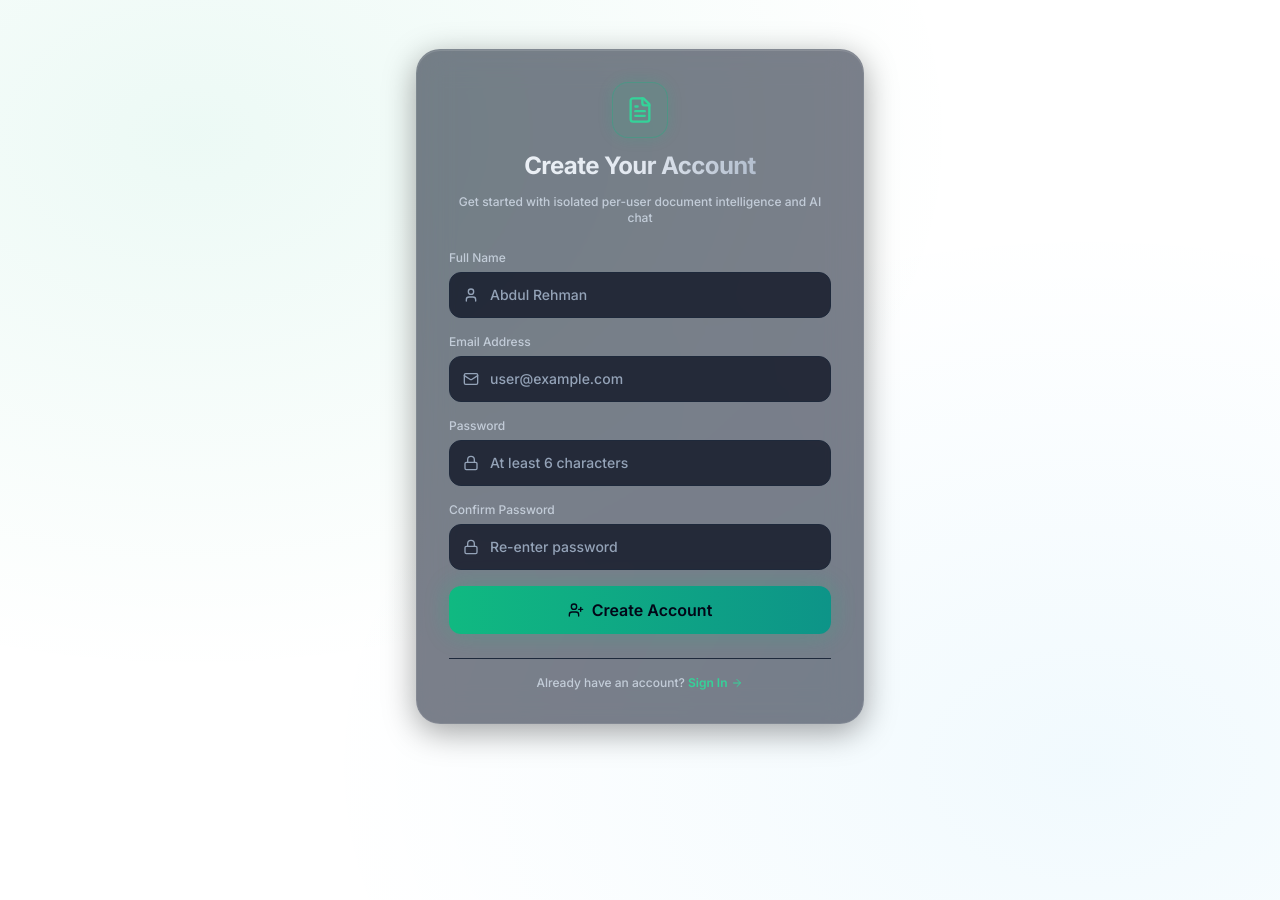
it: Authentication UI Components › renders RegisterPage form fields and validates password match
The width and height of the screenshot is (1280, 900).
Check: the heading "Create Your Account" is shown, box [449, 150, 831, 182]
# Fill in mismatching passwords
Type "Test User" into the field with placeholder "Abdul Rehman" at (640, 294), box [449, 272, 831, 318]
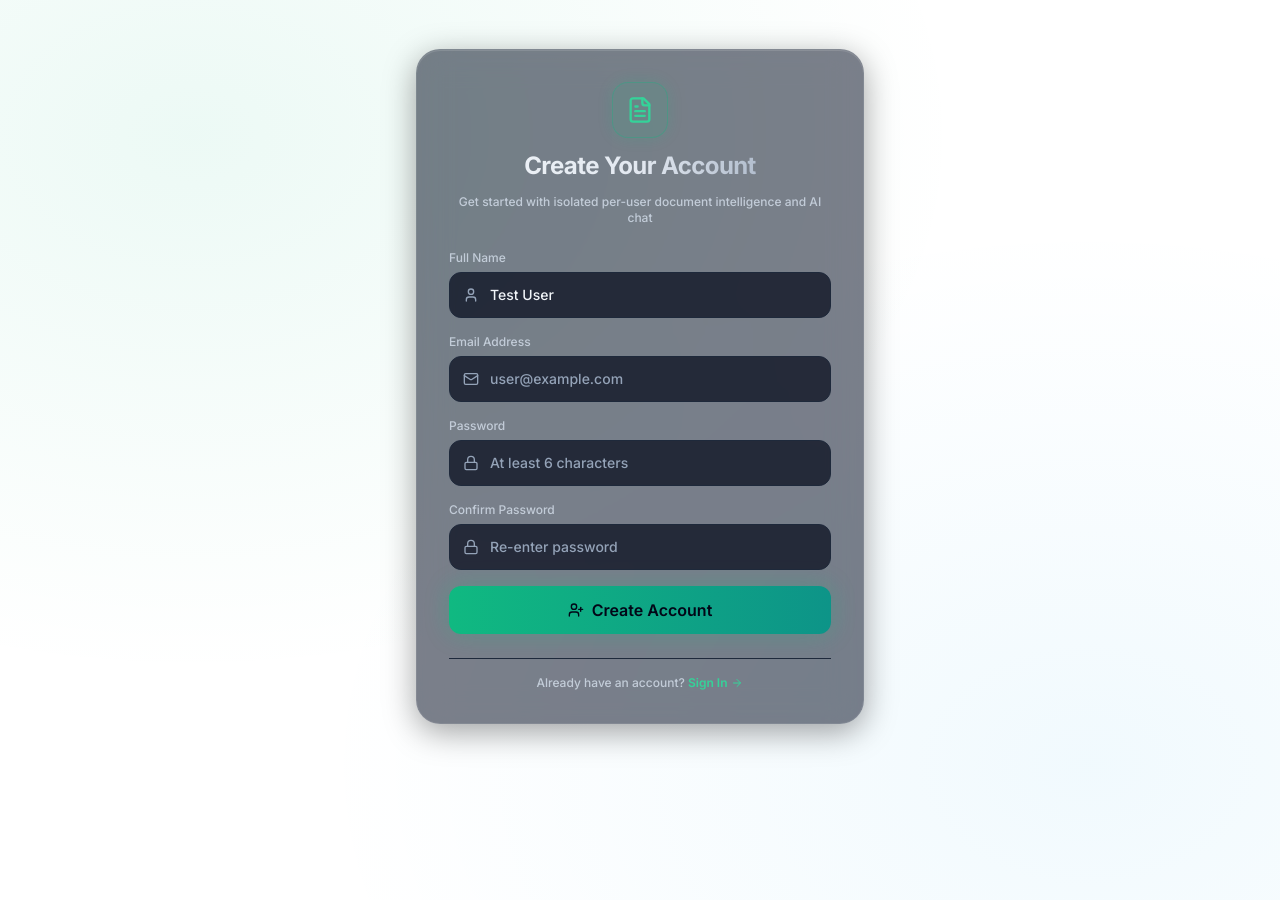
Type "test@example.com" into the field with placeholder "user@example.com" at (640, 378), box [449, 356, 831, 402]
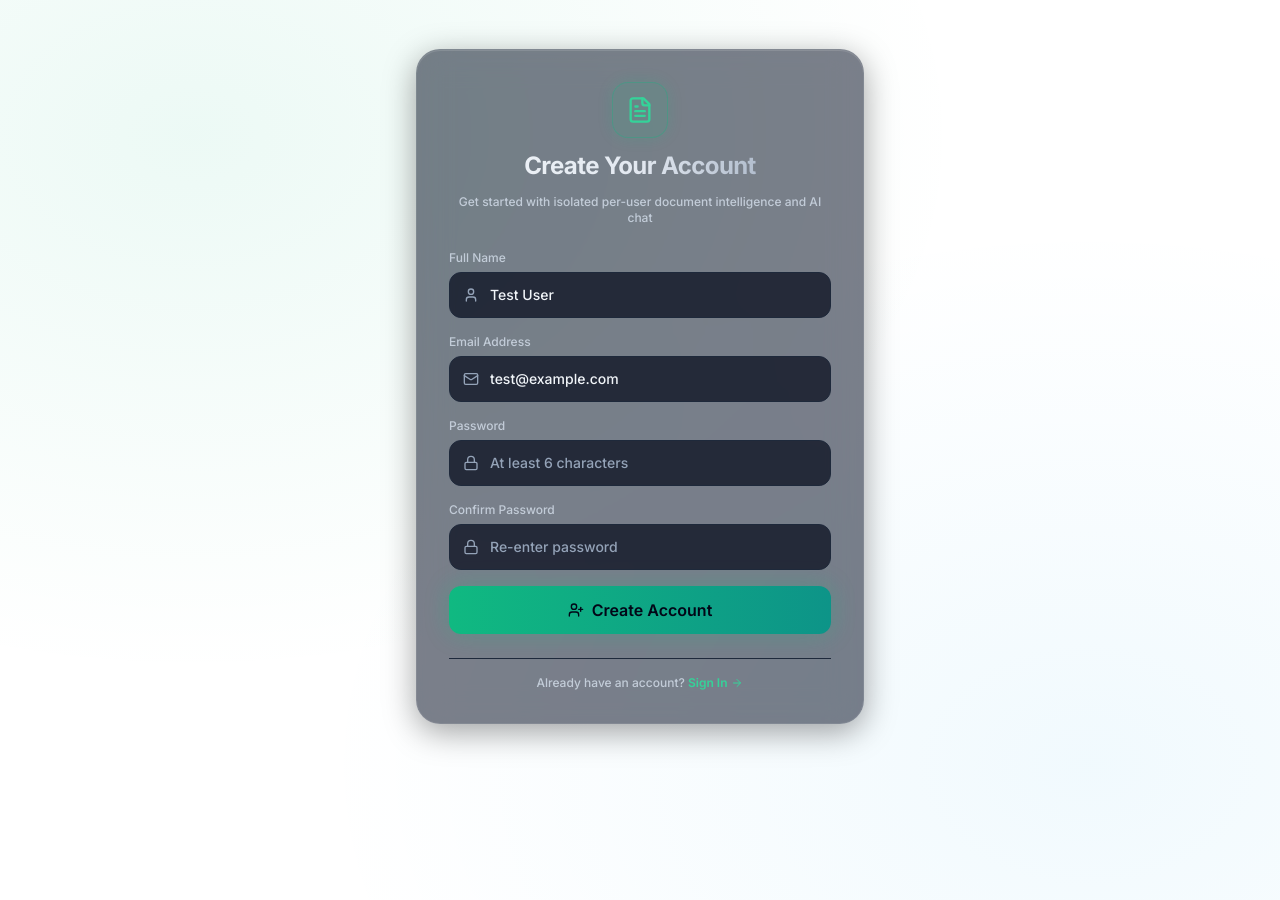
Type "password123" into the password field with placeholder "At least 6 characters" at (640, 462), box [449, 440, 831, 486]
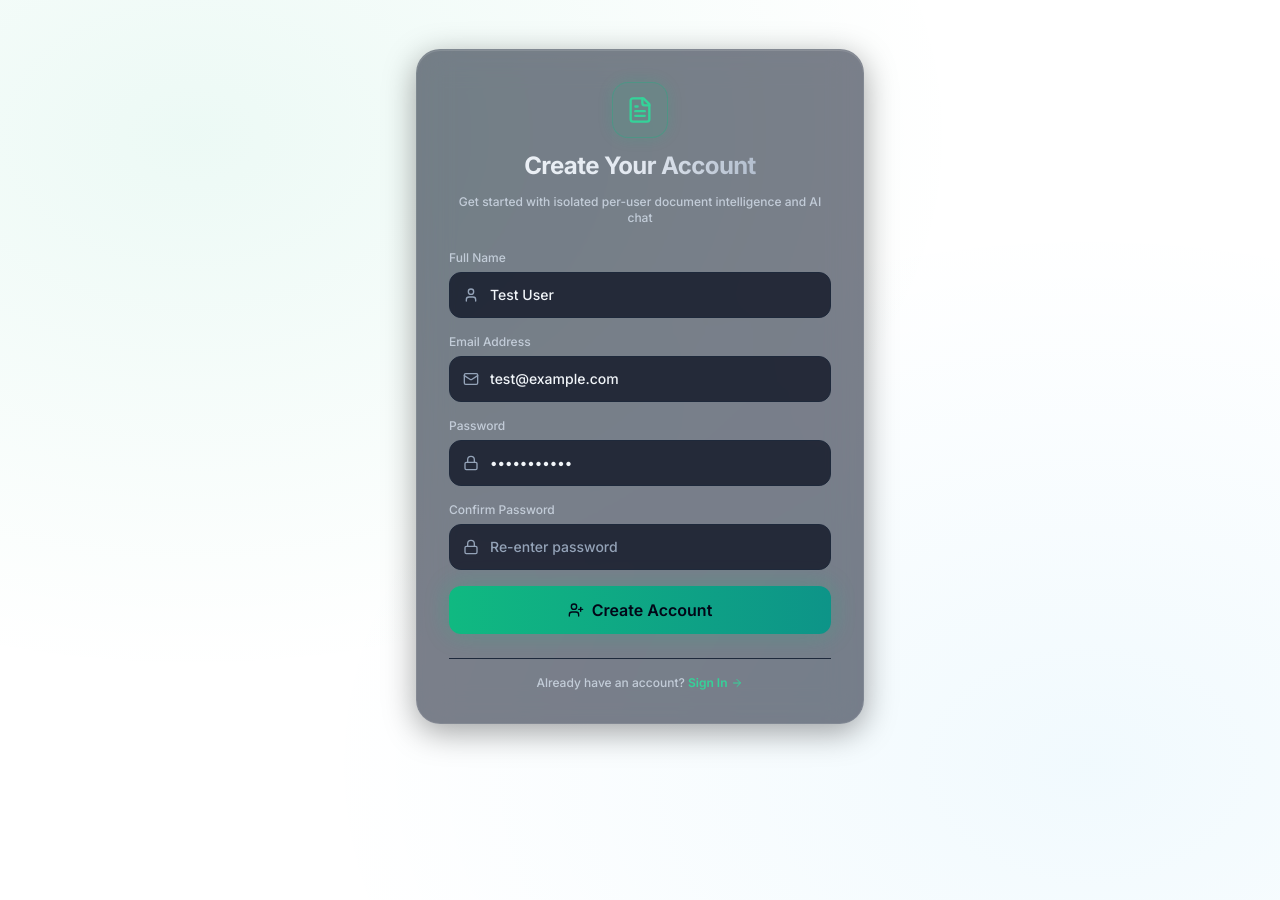
Type "different123" into the password field with placeholder "Re-enter password" at (640, 546), box [449, 524, 831, 570]
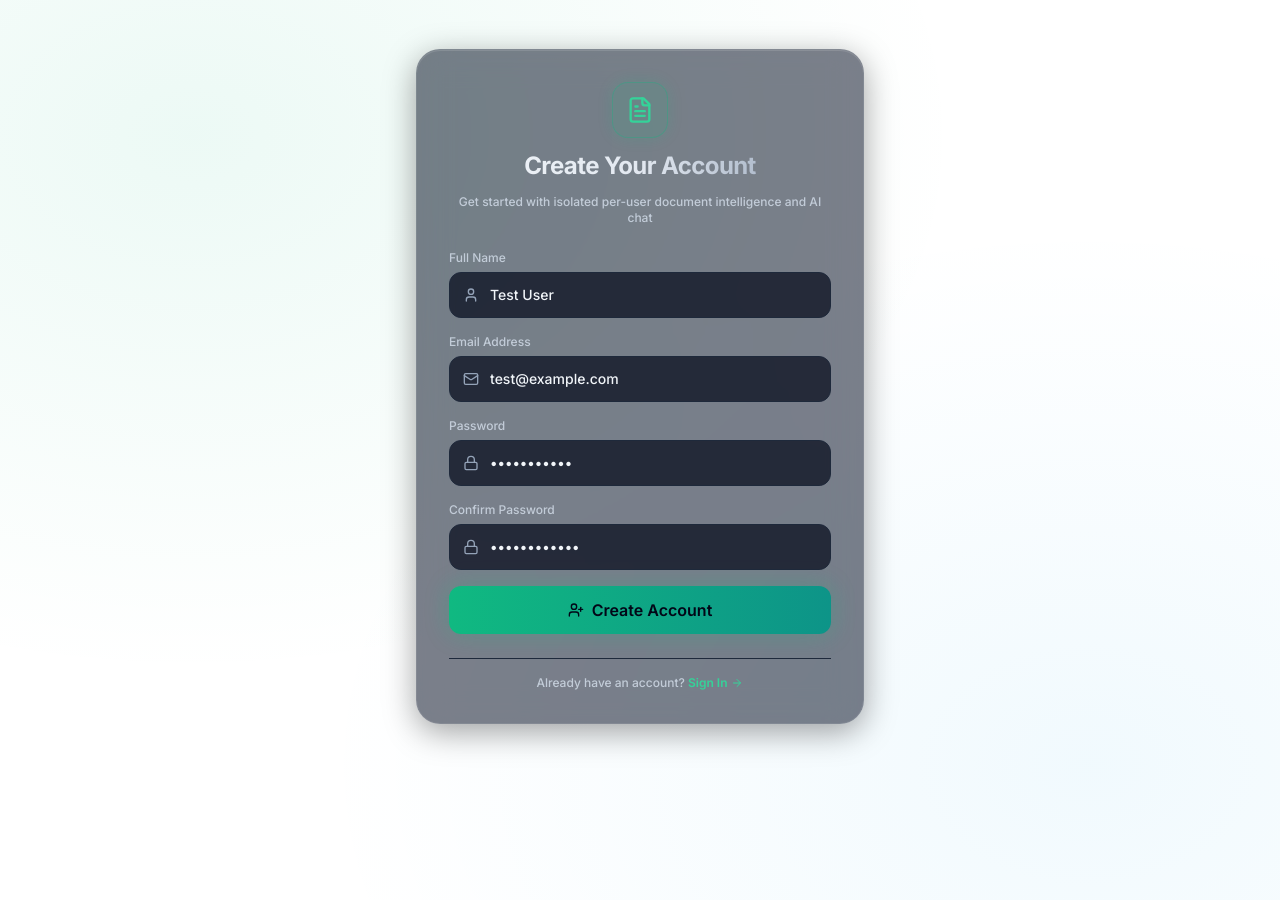
Click the button "Create Account" at (640, 610), box [449, 586, 831, 634]
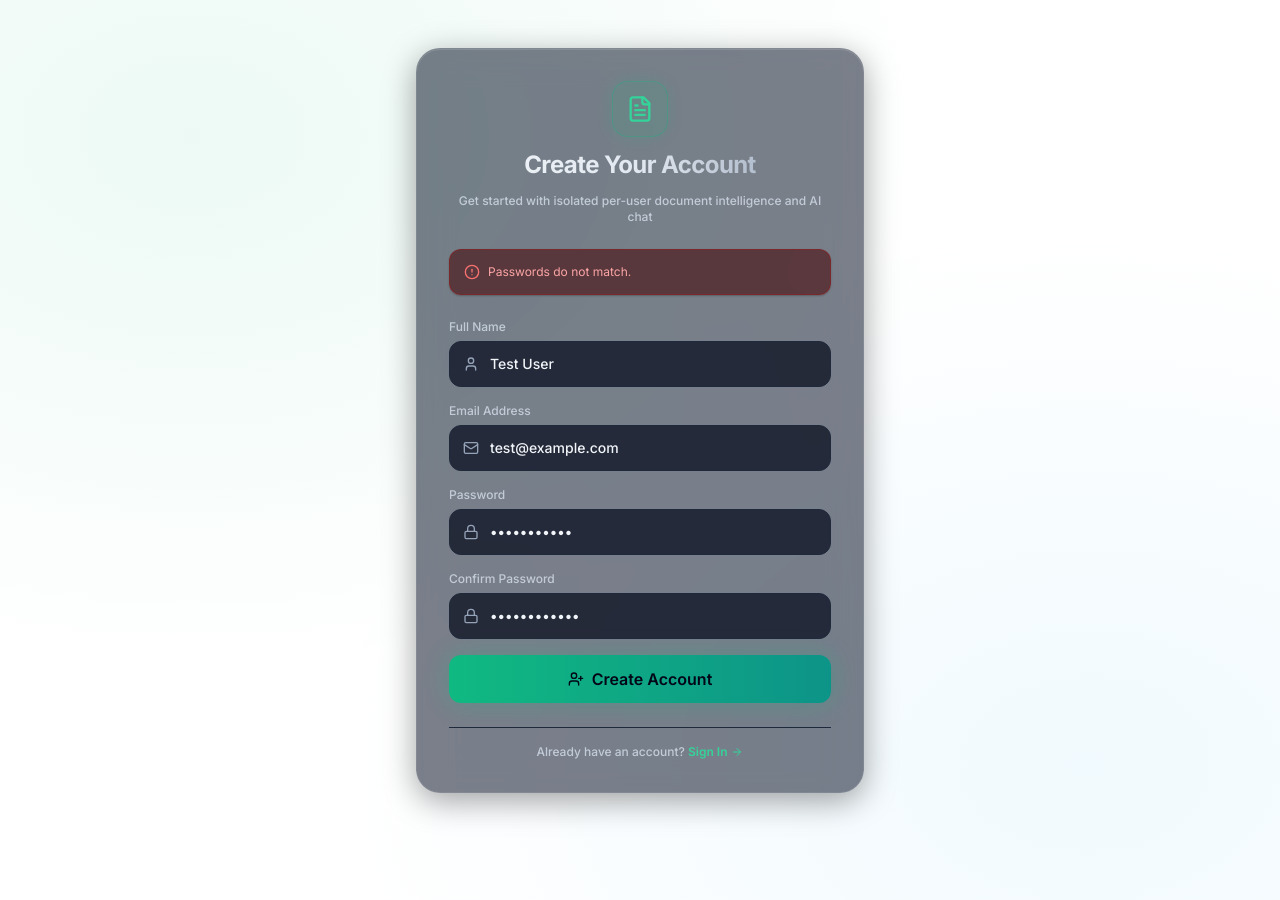
Check: the text "Passwords do not match." is shown, box [488, 264, 631, 280]
